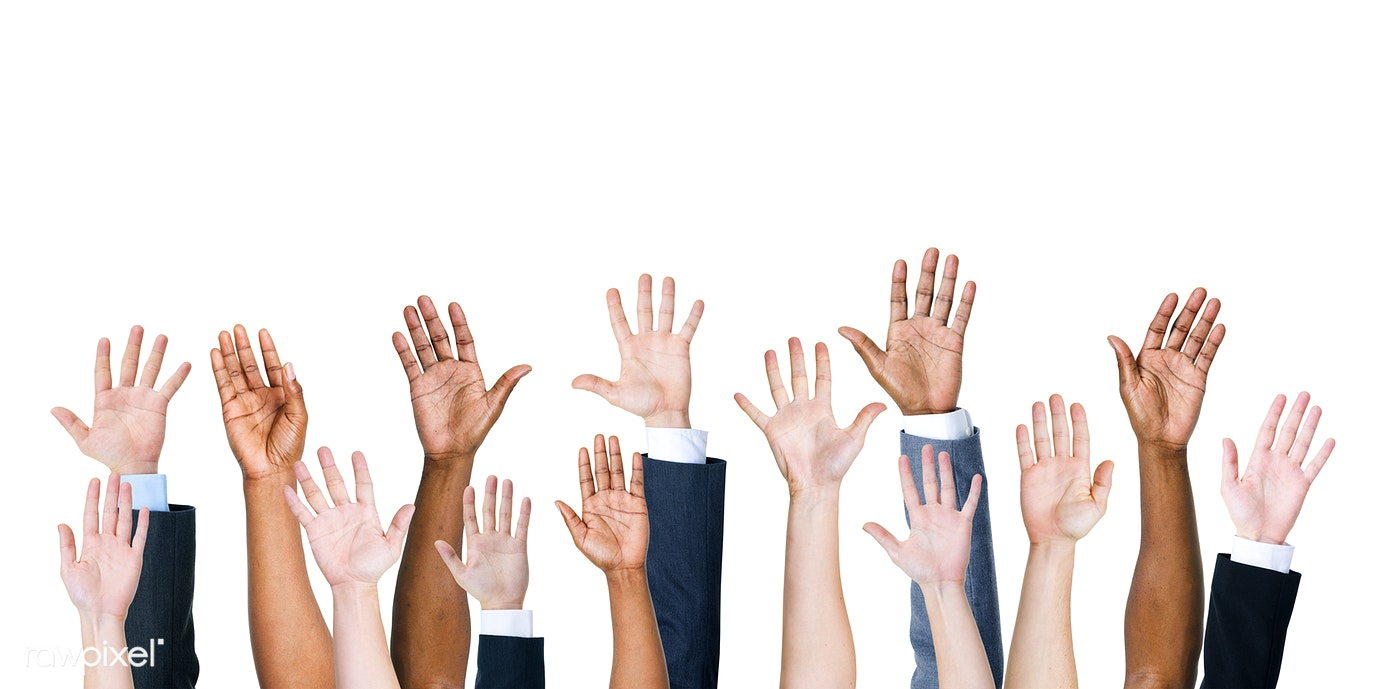hand: (394, 295, 534, 455), (733, 336, 886, 478), (840, 249, 974, 406), (52, 324, 190, 462), (571, 273, 703, 412), (1110, 288, 1224, 446), (283, 447, 415, 575), (1220, 390, 1336, 530), (863, 443, 981, 576), (210, 324, 306, 470), (1017, 394, 1115, 535), (57, 473, 149, 611), (555, 434, 651, 565), (433, 474, 529, 601)
